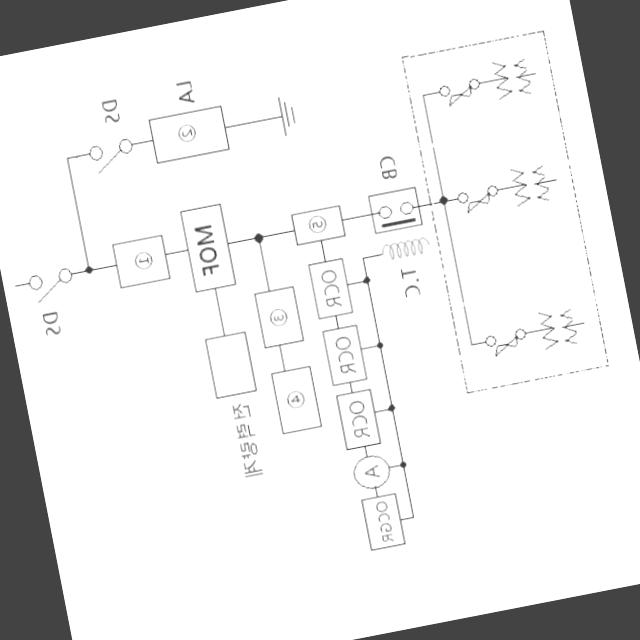A: (350, 454, 390, 492)
CB: (368, 187, 422, 235)
GND: (276, 92, 300, 139)
MOF: (178, 204, 236, 292)
PF: (439, 78, 482, 108), (458, 185, 500, 214), (486, 330, 526, 358)
PT: (492, 56, 533, 100), (511, 164, 552, 208), (540, 304, 578, 350)
ds: (27, 270, 75, 306), (88, 139, 134, 175)
